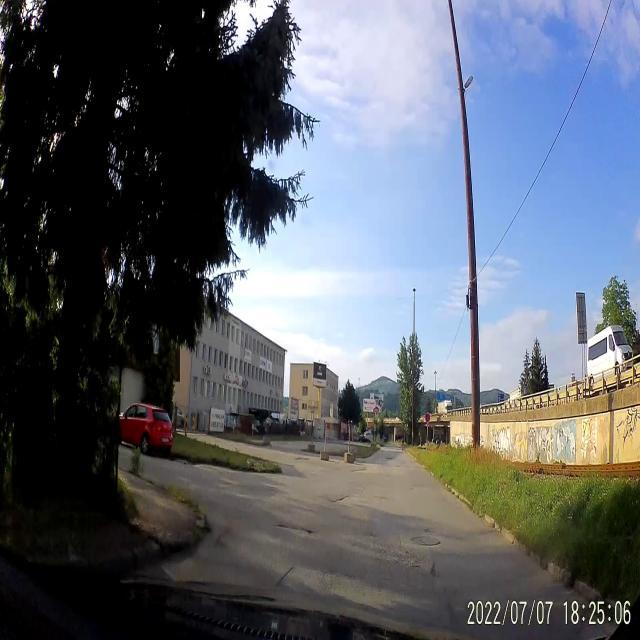Manhole: (409, 527, 442, 553)
Pothole: (274, 519, 316, 545), (323, 487, 351, 513)
